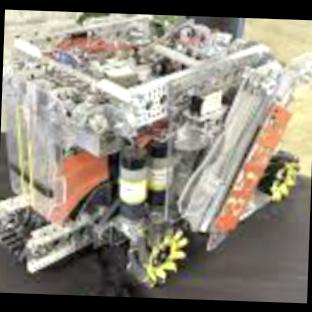Robot: (0, 13, 312, 284)
